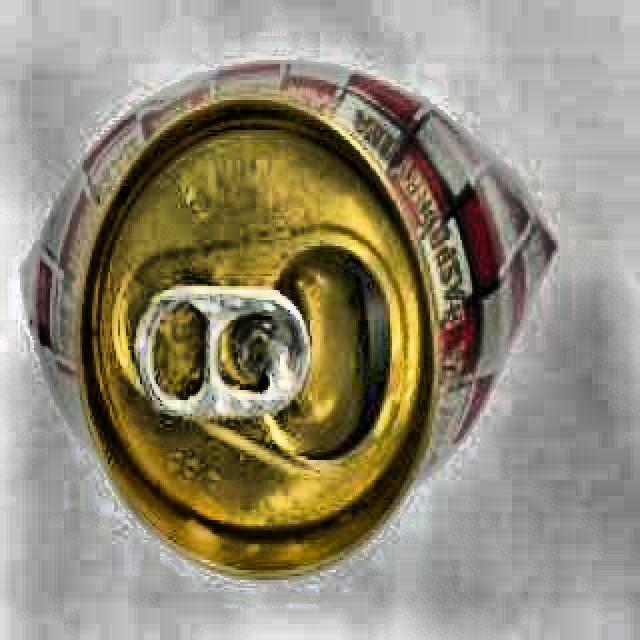metal: (18, 61, 565, 595)
